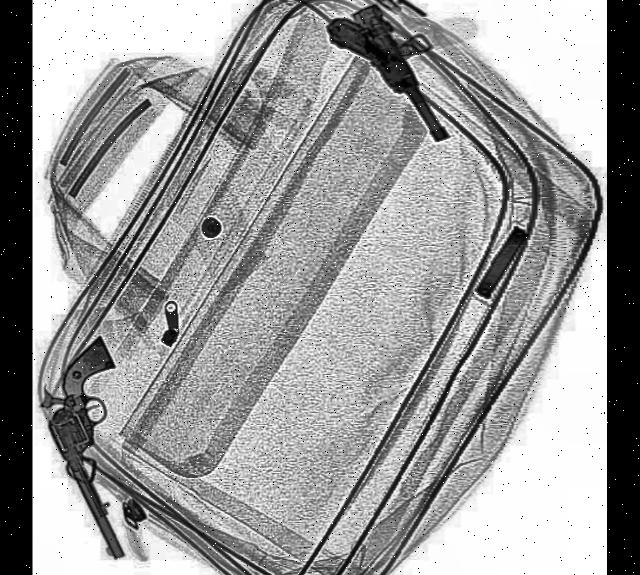Gun: (34, 332, 183, 563), (324, 0, 458, 170)
